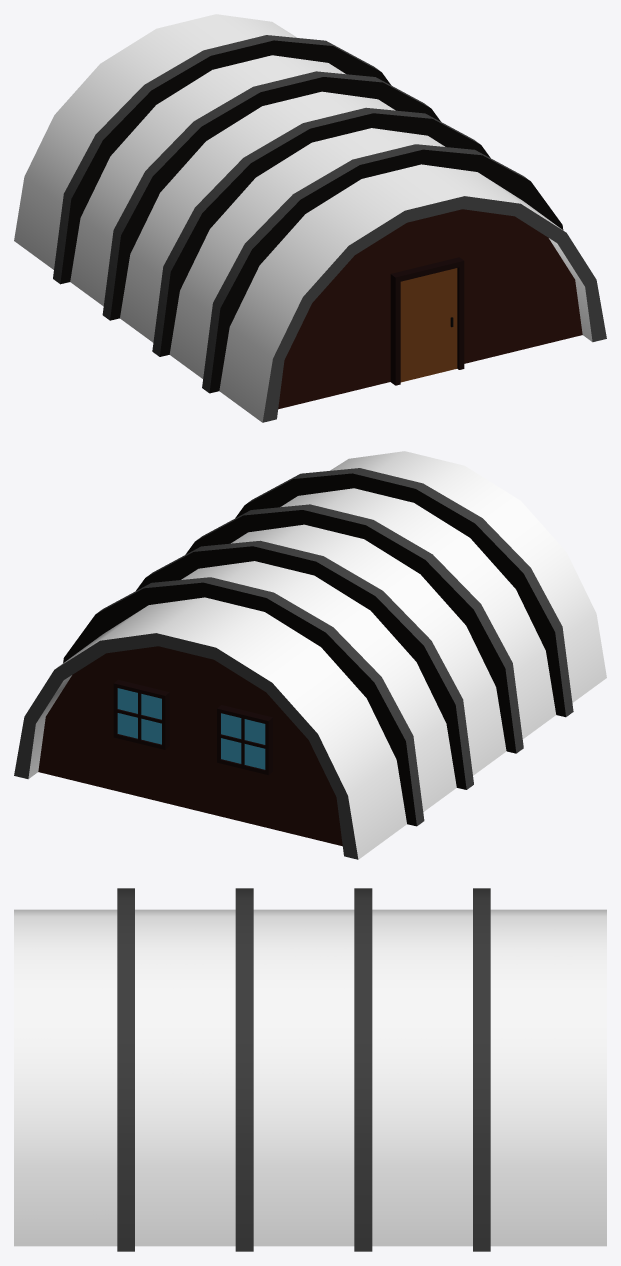
Rendered from Hangar.FBX.
The picture shows the model from 3 angles, top to bottom: view 1: azimuth 30°, elevation 25°; view 2: azimuth 150°, elevation 25°; view 3: azimuth 270°, elevation 25°; orthographic projection. The views are drawn at different scales.
Parts seen in each view (by area): view 1: Base, Door; view 2: Base, Window, Window001; view 3: Base.
Part boxes in pixels (box(x1,y1,x2,y2)): Base: box(14, 14, 606, 422); Door: box(390, 257, 464, 385); Base: box(14, 451, 606, 859); Window: box(113, 679, 169, 749); Window001: box(217, 705, 272, 774); Base: box(14, 888, 606, 1251).
Size of the model in its own units: 211 by 106 by 250.
